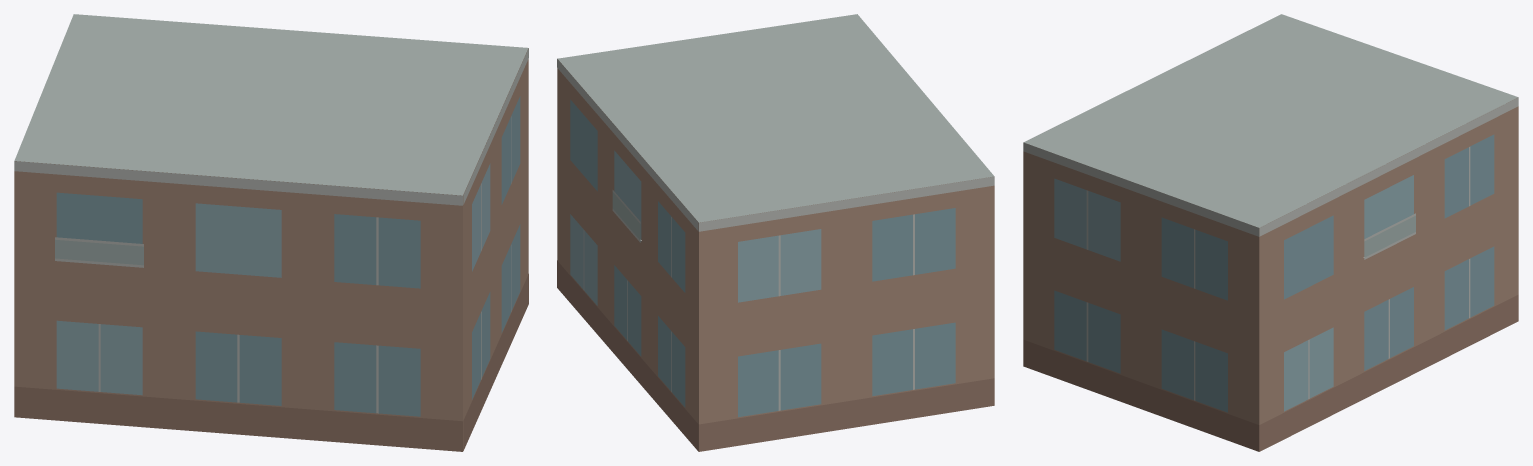
Rendered from survey-upis-32670431.glb.
3 views of the same model, side by side, from view 1: azimuth 30°, elevation 25°; view 2: azimuth 150°, elevation 25°; view 3: azimuth 270°, elevation 25° (orthographic). The views are drawn at different scales.
Parts seen in each view (by area): view 1: survey-upis-32670431.tmp; view 2: survey-upis-32670431.tmp; view 3: survey-upis-32670431.tmp.
Boxes of the visible parts, x1,y1,x2,y2 form: survey-upis-32670431.tmp: (14, 14, 528, 451); survey-upis-32670431.tmp: (557, 14, 994, 451); survey-upis-32670431.tmp: (1023, 14, 1518, 451).
Bounding box in the file's own units: 12.5 × 6.1 × 12.23.
